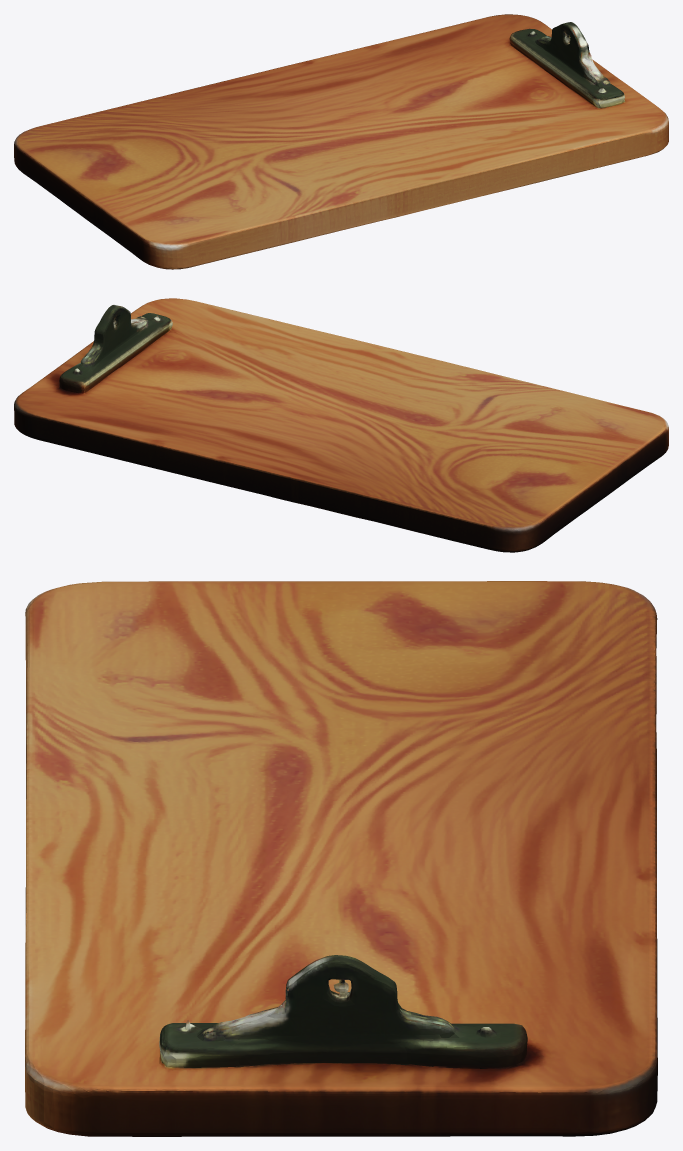
The model's file is wooden-clipboard-3d.jpeg.glb.
3 renders of one model, top to bottom at view 1: azimuth 30°, elevation 25°; view 2: azimuth 150°, elevation 25°; view 3: azimuth 270°, elevation 25°, orthographic. The views are drawn at different scales.
Visible parts, largest first — view 1: world; view 2: world; view 3: world.
Boxes of the visible parts, <box> form: world: <box>14,14,668,269</box>; world: <box>14,298,668,552</box>; world: <box>25,581,657,1136</box>.
Size of the model in its own units: 0.9981 by 0.1395 by 0.5216.
Materials: 1 (1 with a texture image).
